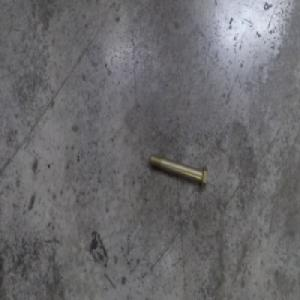Bolt: (148, 151, 208, 190)
